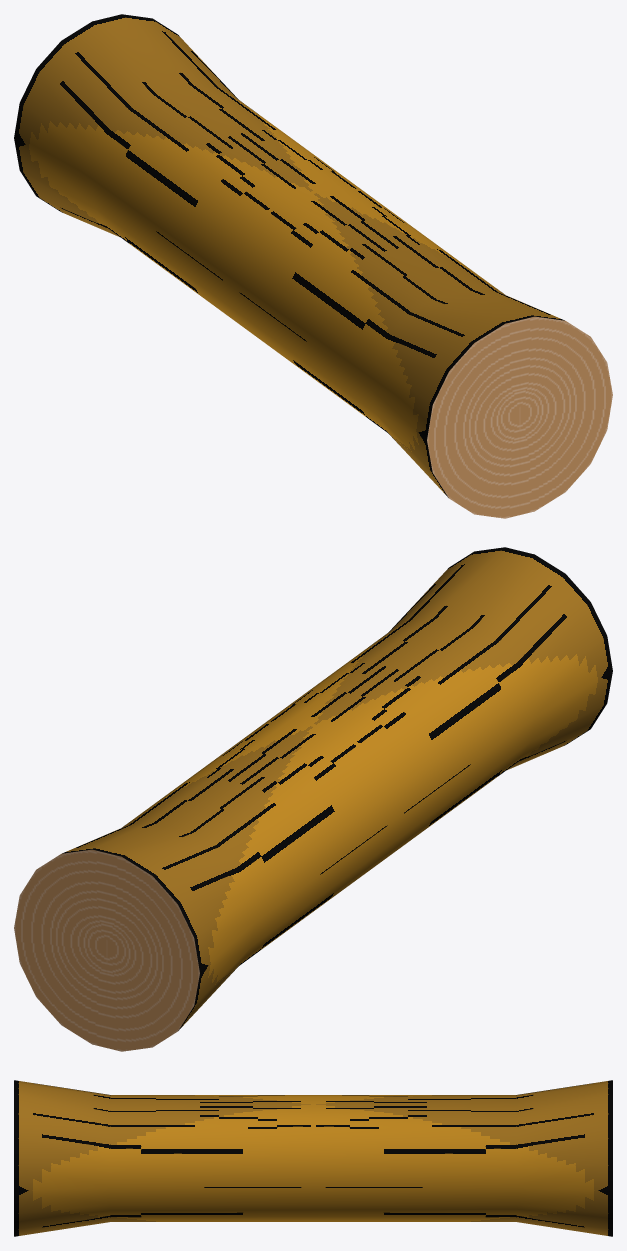
File: log.fbx
3 renders of one model, top to bottom at view 1: azimuth 30°, elevation 25°; view 2: azimuth 150°, elevation 25°; view 3: azimuth 270°, elevation 25°, orthographic. The views are drawn at different scales.
Visible parts, largest first — view 1: Cylinder; view 2: Cylinder; view 3: Cylinder.
Part boxes in pixels (box(x1,y1,x2,y2)): Cylinder: box(14, 14, 612, 518); Cylinder: box(14, 547, 612, 1051); Cylinder: box(14, 1080, 612, 1236).
Bounding box in the file's own units: 118 × 118 × 453.
Materials: 2 (2 with a texture image).
